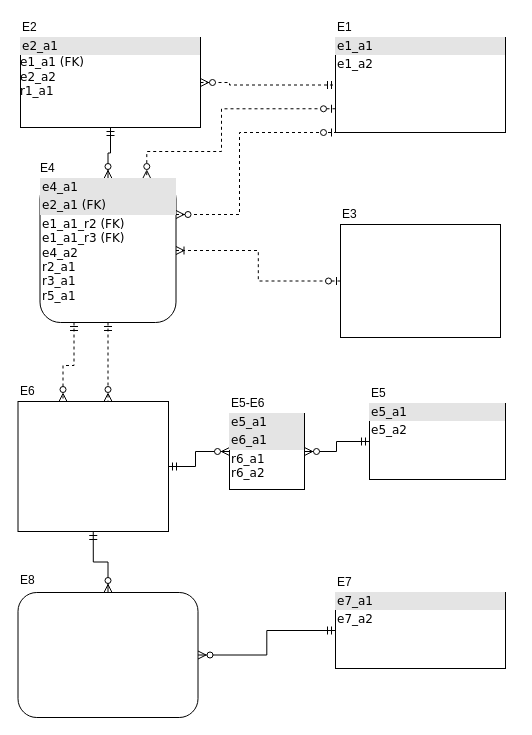
The diagram is 532 pixels wide and 735 high, and some of its shapes have lost their labels. The shapes that lost their labels are listed below. From the top down, each one's box as (x1, y1, x2, y2) in pixels, then its label:
(340, 224, 500, 338): e3_a1 e4_a1 (FK) e2_a1 (FK) e3_a2 e3_a3
(17, 400, 168, 532): e6_a1 e4_a1_r7 (FK) e2_a1_r7 (FK) e4_a1_r8 (FK) e2_a1_r8 (FK) e6_a2 r7_a1 r8_a1
(17, 592, 198, 718): e8_a1 e6_a1 (FK) e7_a1 (FK) e8_a2 r9_a1 r9_a2 r10_a1
